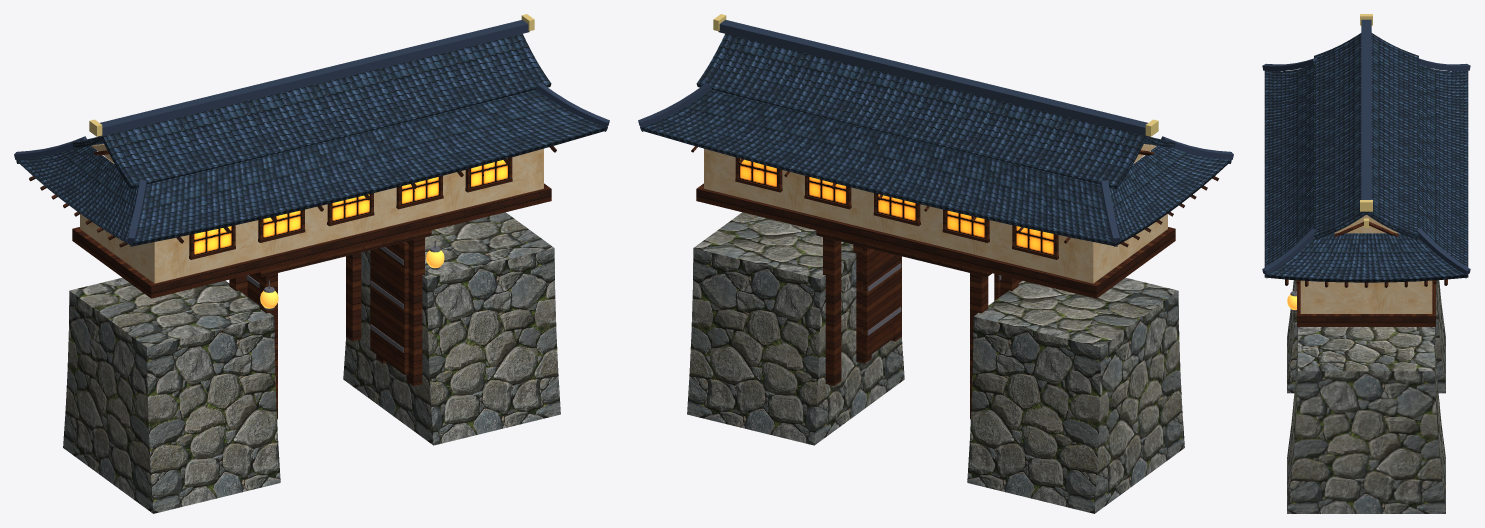
Rendered from castle_otemon_gate.glb.
3 renders of one model, left to right at view 1: azimuth 30°, elevation 25°; view 2: azimuth 150°, elevation 25°; view 3: azimuth 270°, elevation 25°, orthographic. The views are drawn at different scales.
Visible parts, largest first — view 1: otemon_castle_stone, otemon_kawara, otemon_charred, otemon_plaster, otemon_shoji_glow, otemon_dark_iron; view 2: otemon_castle_stone, otemon_kawara, otemon_charred, otemon_plaster, otemon_shoji_glow; view 3: otemon_kawara, otemon_castle_stone, otemon_plaster, otemon_charred, otemon_gold_trim.
Boxes of the visible parts, left/top/right/bottom form: otemon_castle_stone: left=63, top=212, right=560, bottom=513; otemon_kawara: left=14, top=20, right=609, bottom=246; otemon_charred: left=29, top=146, right=556, bottom=419; otemon_plaster: left=80, top=144, right=543, bottom=283; otemon_shoji_glow: left=194, top=158, right=508, bottom=255; otemon_dark_iron: left=246, top=240, right=440, bottom=352; otemon_castle_stone: left=687, top=212, right=1184, bottom=513; otemon_kawara: left=638, top=20, right=1233, bottom=246; otemon_charred: left=691, top=146, right=1218, bottom=419; otemon_plaster: left=704, top=144, right=1167, bottom=283; otemon_shoji_glow: left=739, top=158, right=1053, bottom=255; otemon_kawara: left=1262, top=19, right=1470, bottom=282; otemon_castle_stone: left=1287, top=280, right=1445, bottom=513; otemon_plaster: left=1300, top=215, right=1432, bottom=313; otemon_charred: left=1285, top=221, right=1447, bottom=326; otemon_gold_trim: left=1360, top=14, right=1372, bottom=227.
Bounding box in the file's own units: 13.25 × 9.48 × 5.63.
8 materials, 5 textured.
